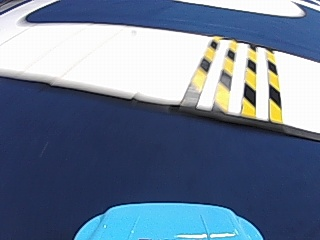bump: (179, 40, 285, 122)
